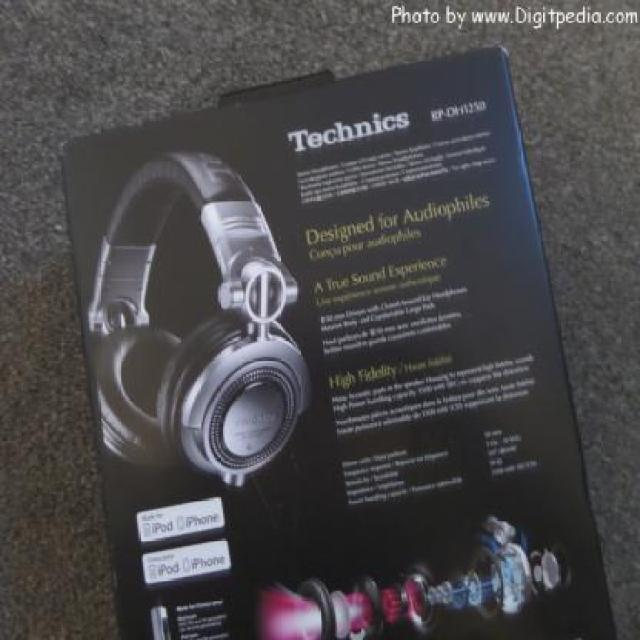earphone: (87, 106, 330, 502)
